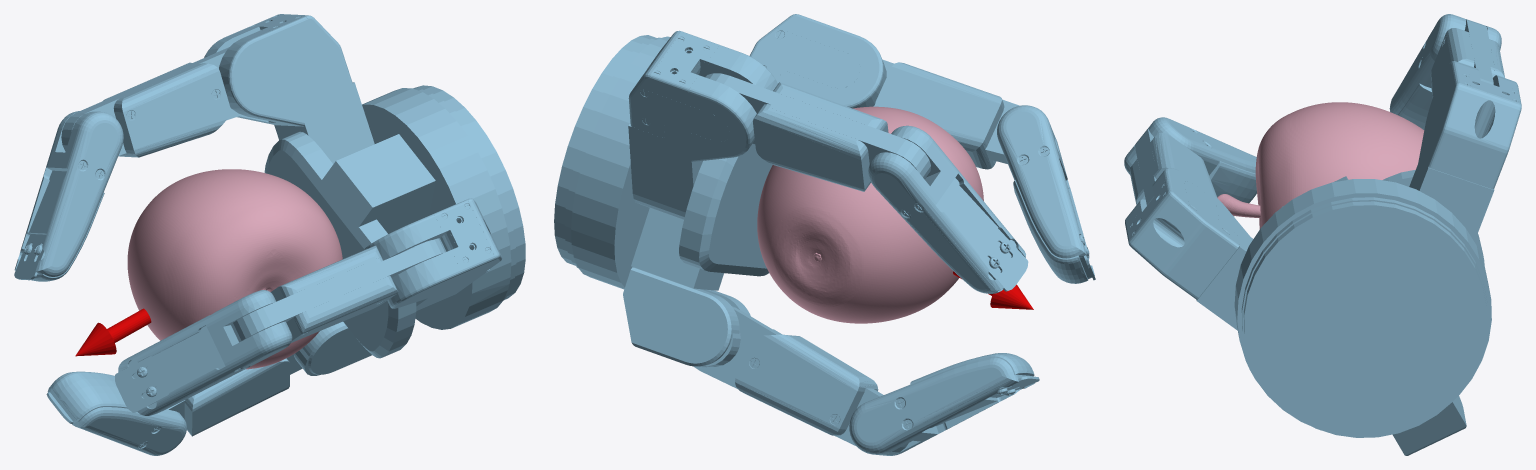
3 views of the same model, side by side, from view 1: azimuth 30°, elevation 25°; view 2: azimuth 150°, elevation 25°; view 3: azimuth 270°, elevation 25° (orthographic). The views are drawn at different scales.
Visible parts, largest first — view 1: world, apple.stl; view 2: world, apple.stl; view 3: world, apple.stl.
Part boxes in pixels (left/top/right/bottom): world: left=14, top=14, right=525, bottom=455; apple.stl: left=127, top=169, right=342, bottom=369; world: left=554, top=14, right=1095, bottom=455; apple.stl: left=757, top=106, right=983, bottom=323; world: left=1124, top=14, right=1521, bottom=455; apple.stl: left=1217, top=102, right=1424, bottom=228.
Size of the model in its own units: 0.1825 by 0.1538 by 0.1386.
